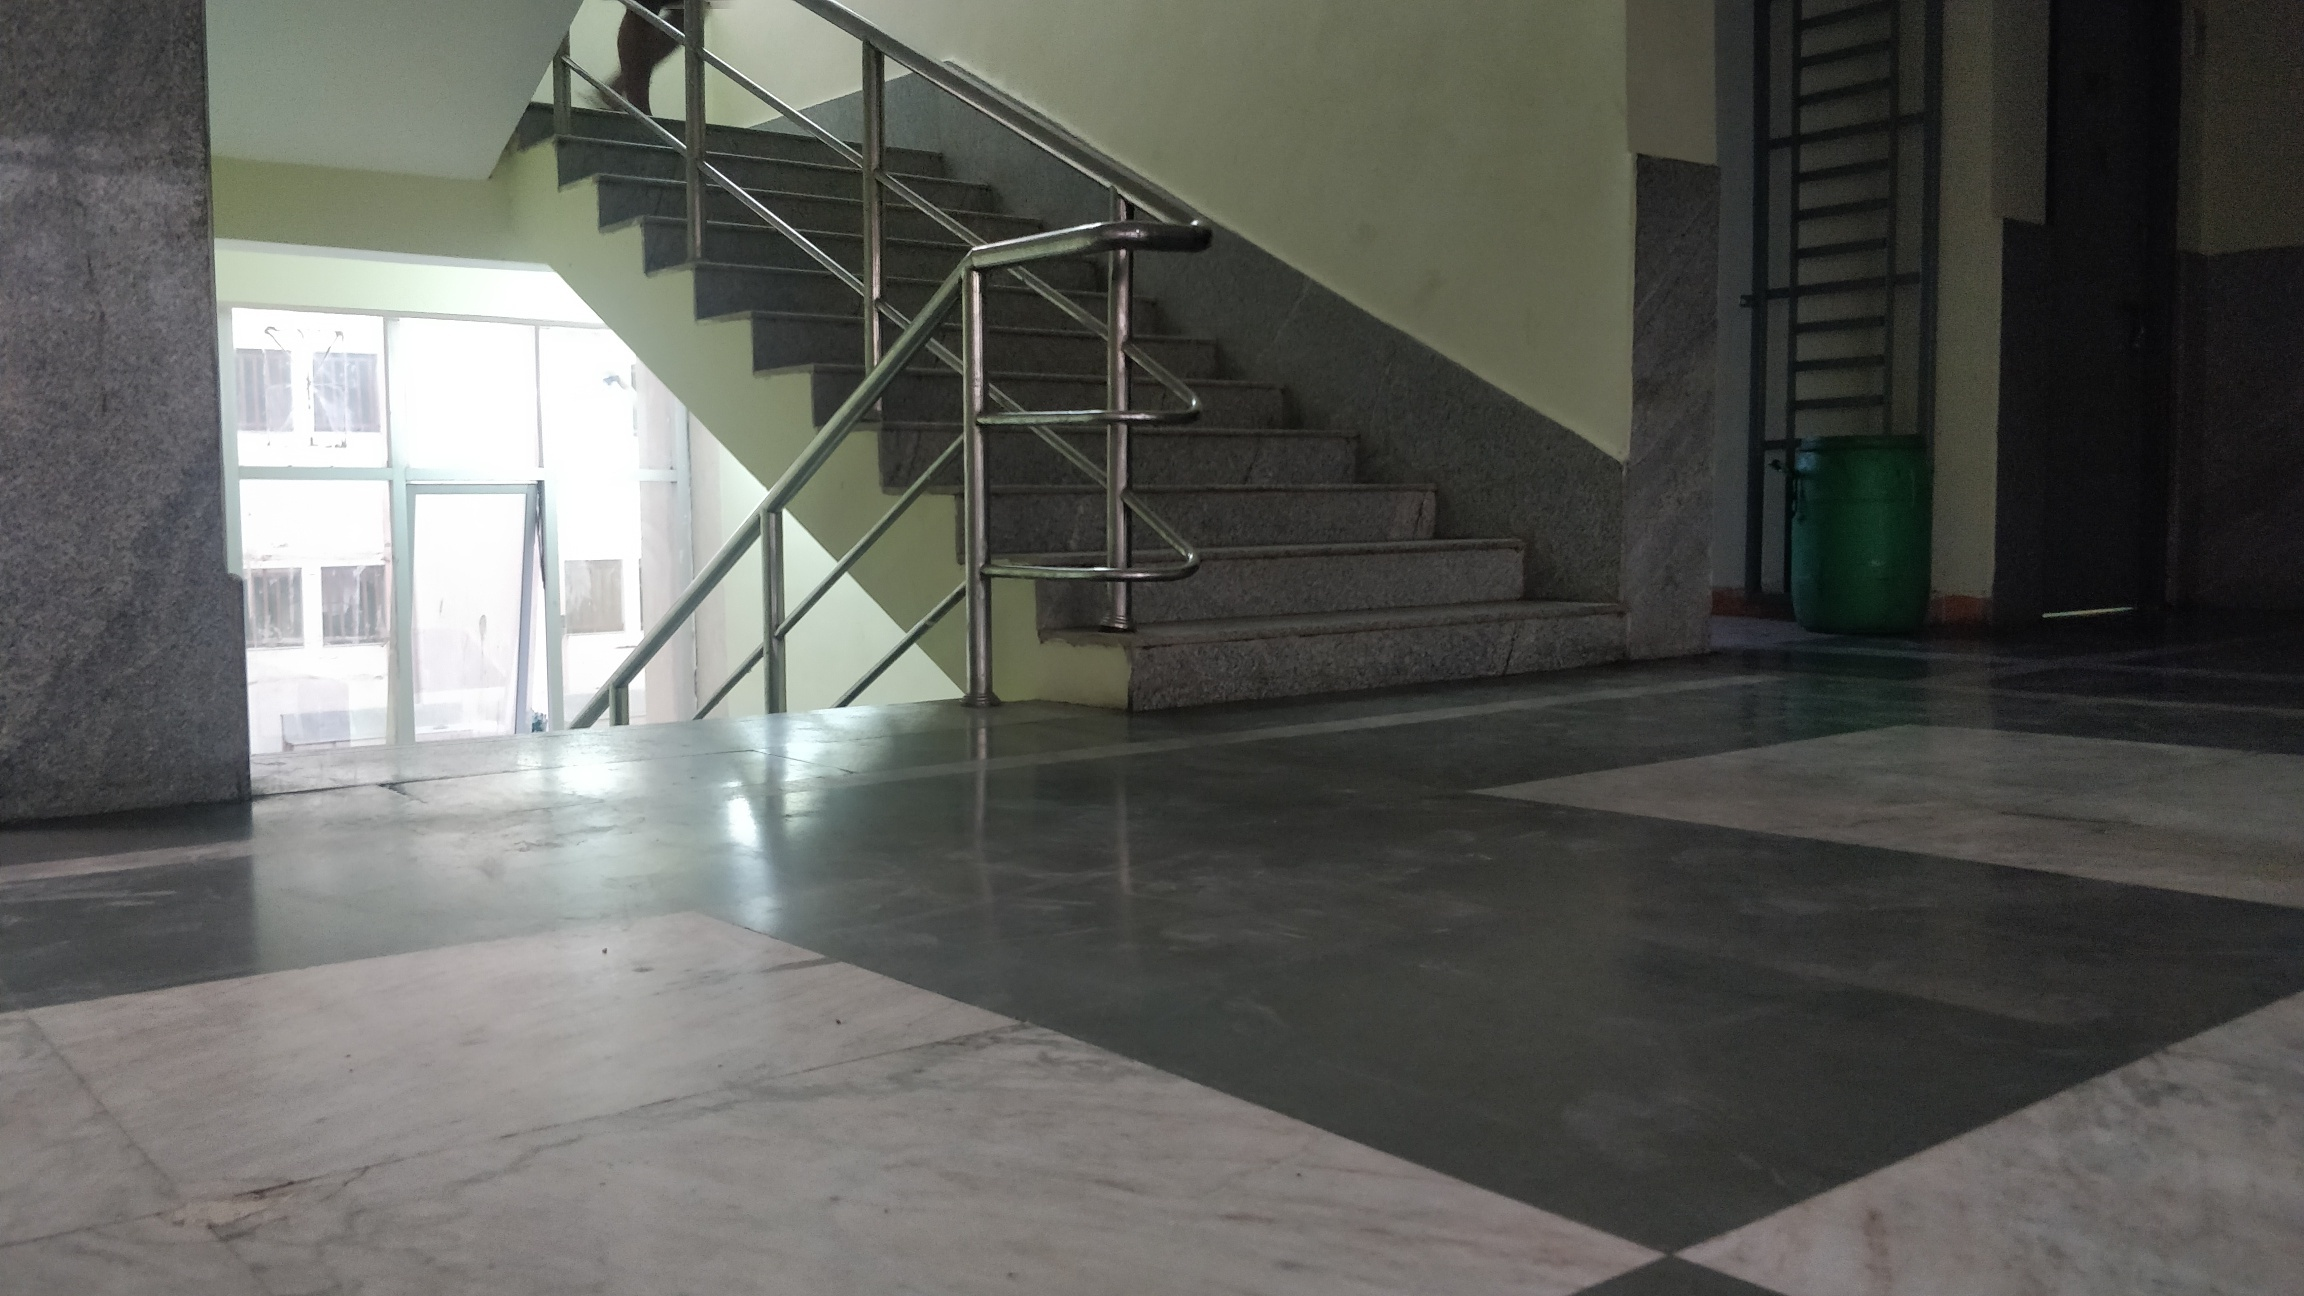stairs_up: (540, 93, 1630, 712)
